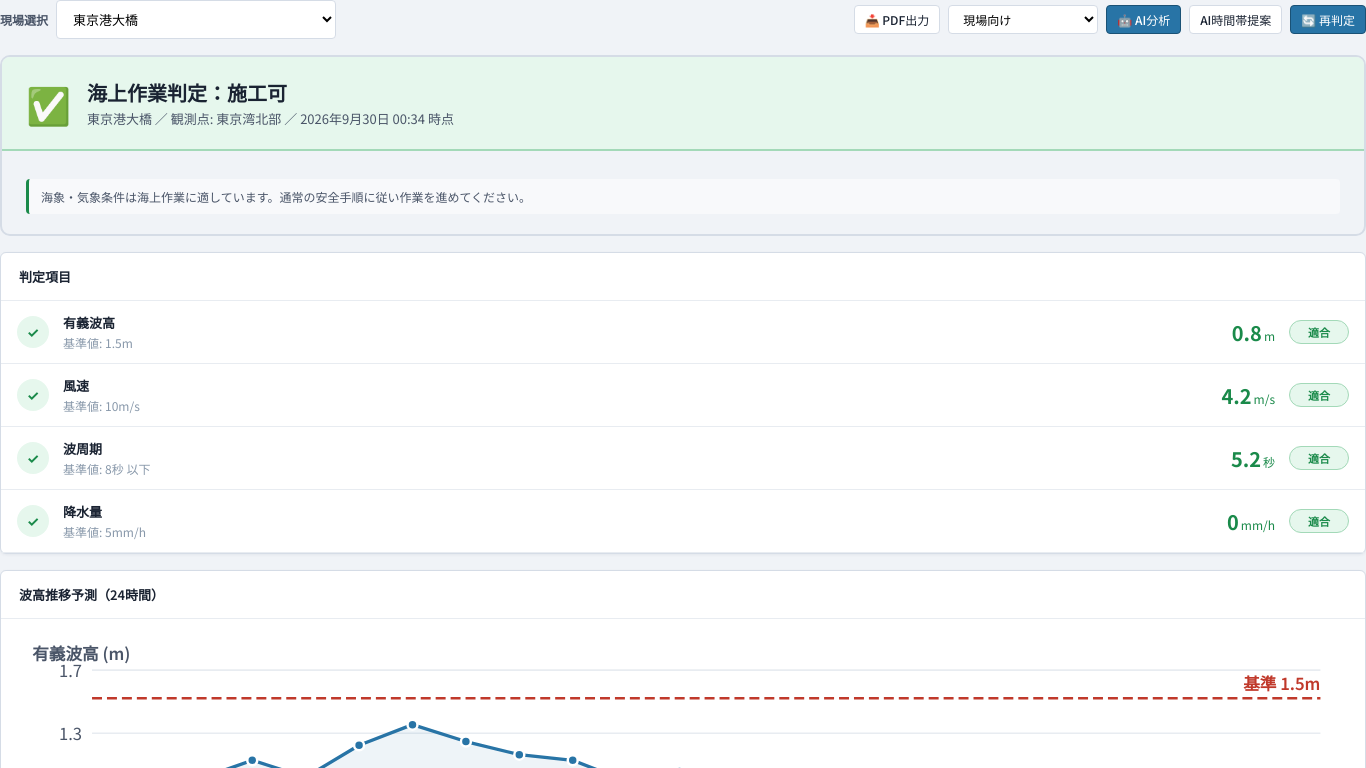
MarineWorkPage › AI分析 button › shows danger AI result with issues
The width and height of the screenshot is (1366, 768).
Click the button "🤖 AI分析": x=1144, y=20 [1106,5,1181,34]
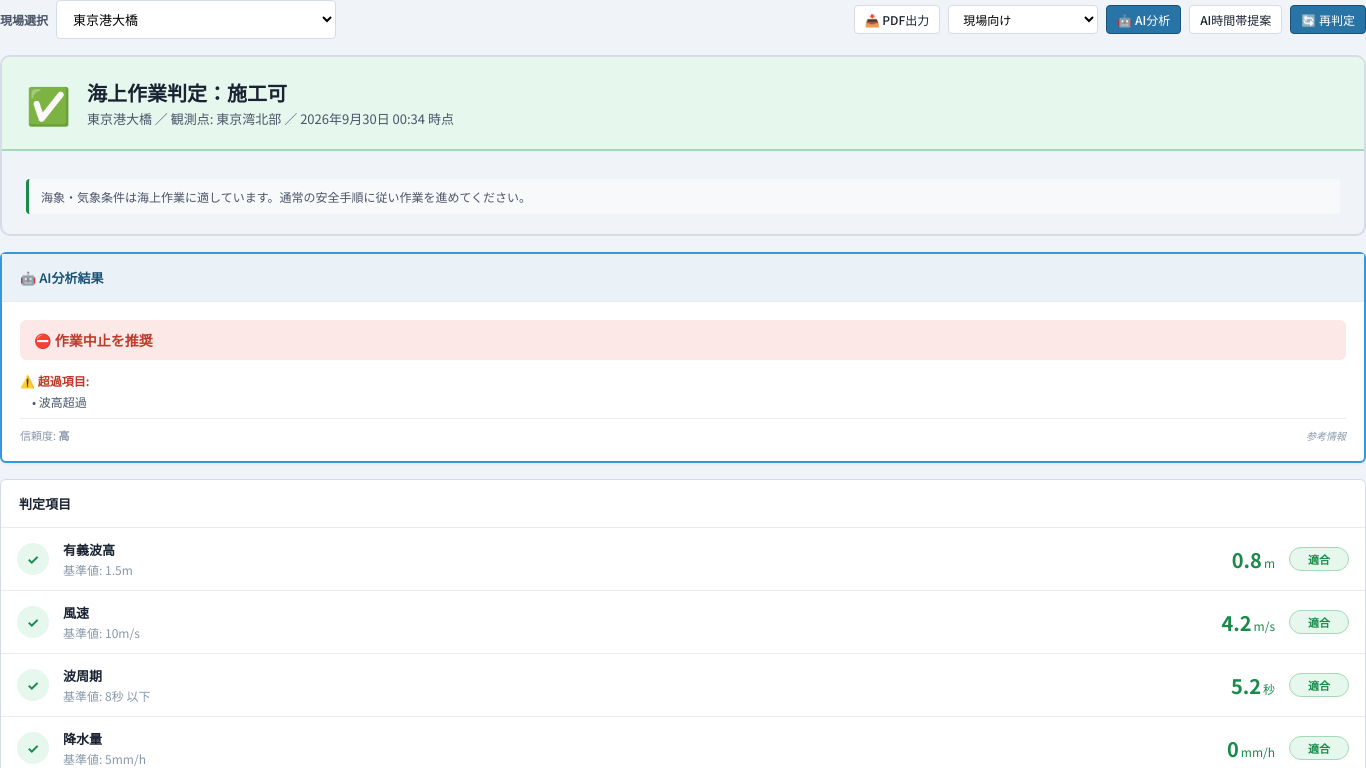
Expected: the text "AI分析結果" is shown, [20,268,104,287]
Expected: the text "波高超過" is shown, [39,393,87,410]
